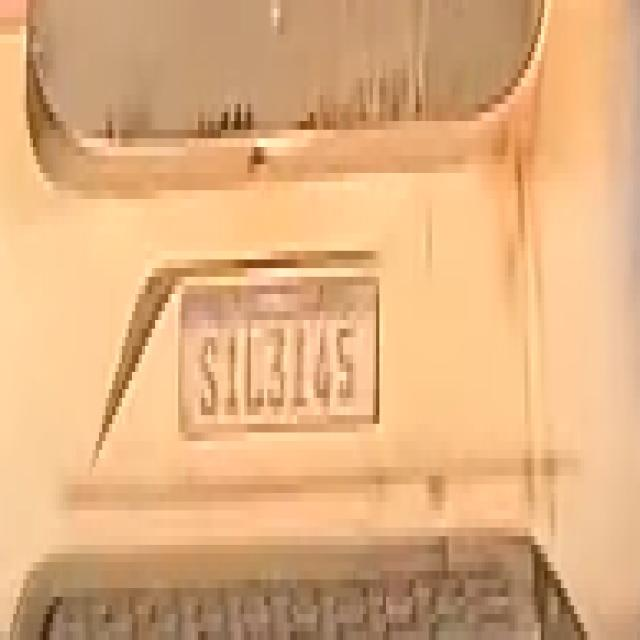Placa_mercosul_carro: (178, 270, 384, 449)
